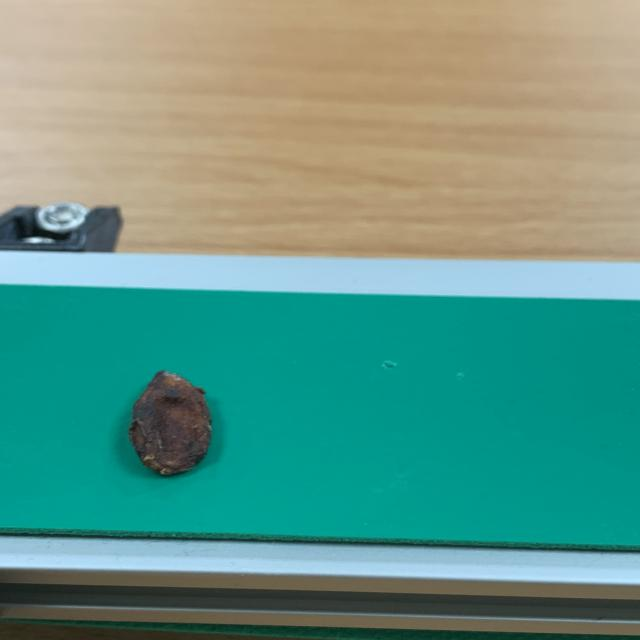Flat_cocoabeans: (58, 341, 346, 502)
